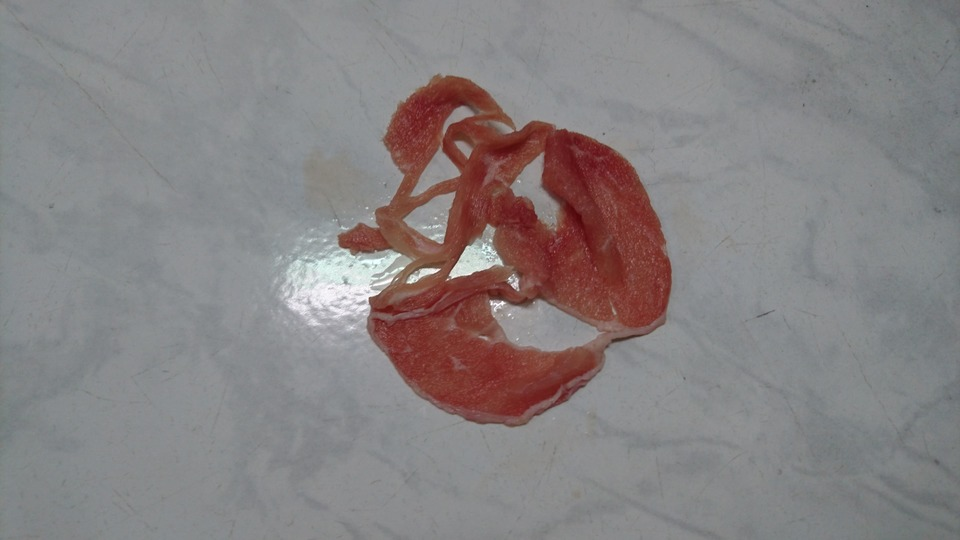restructured meat: (342, 73, 674, 432)
